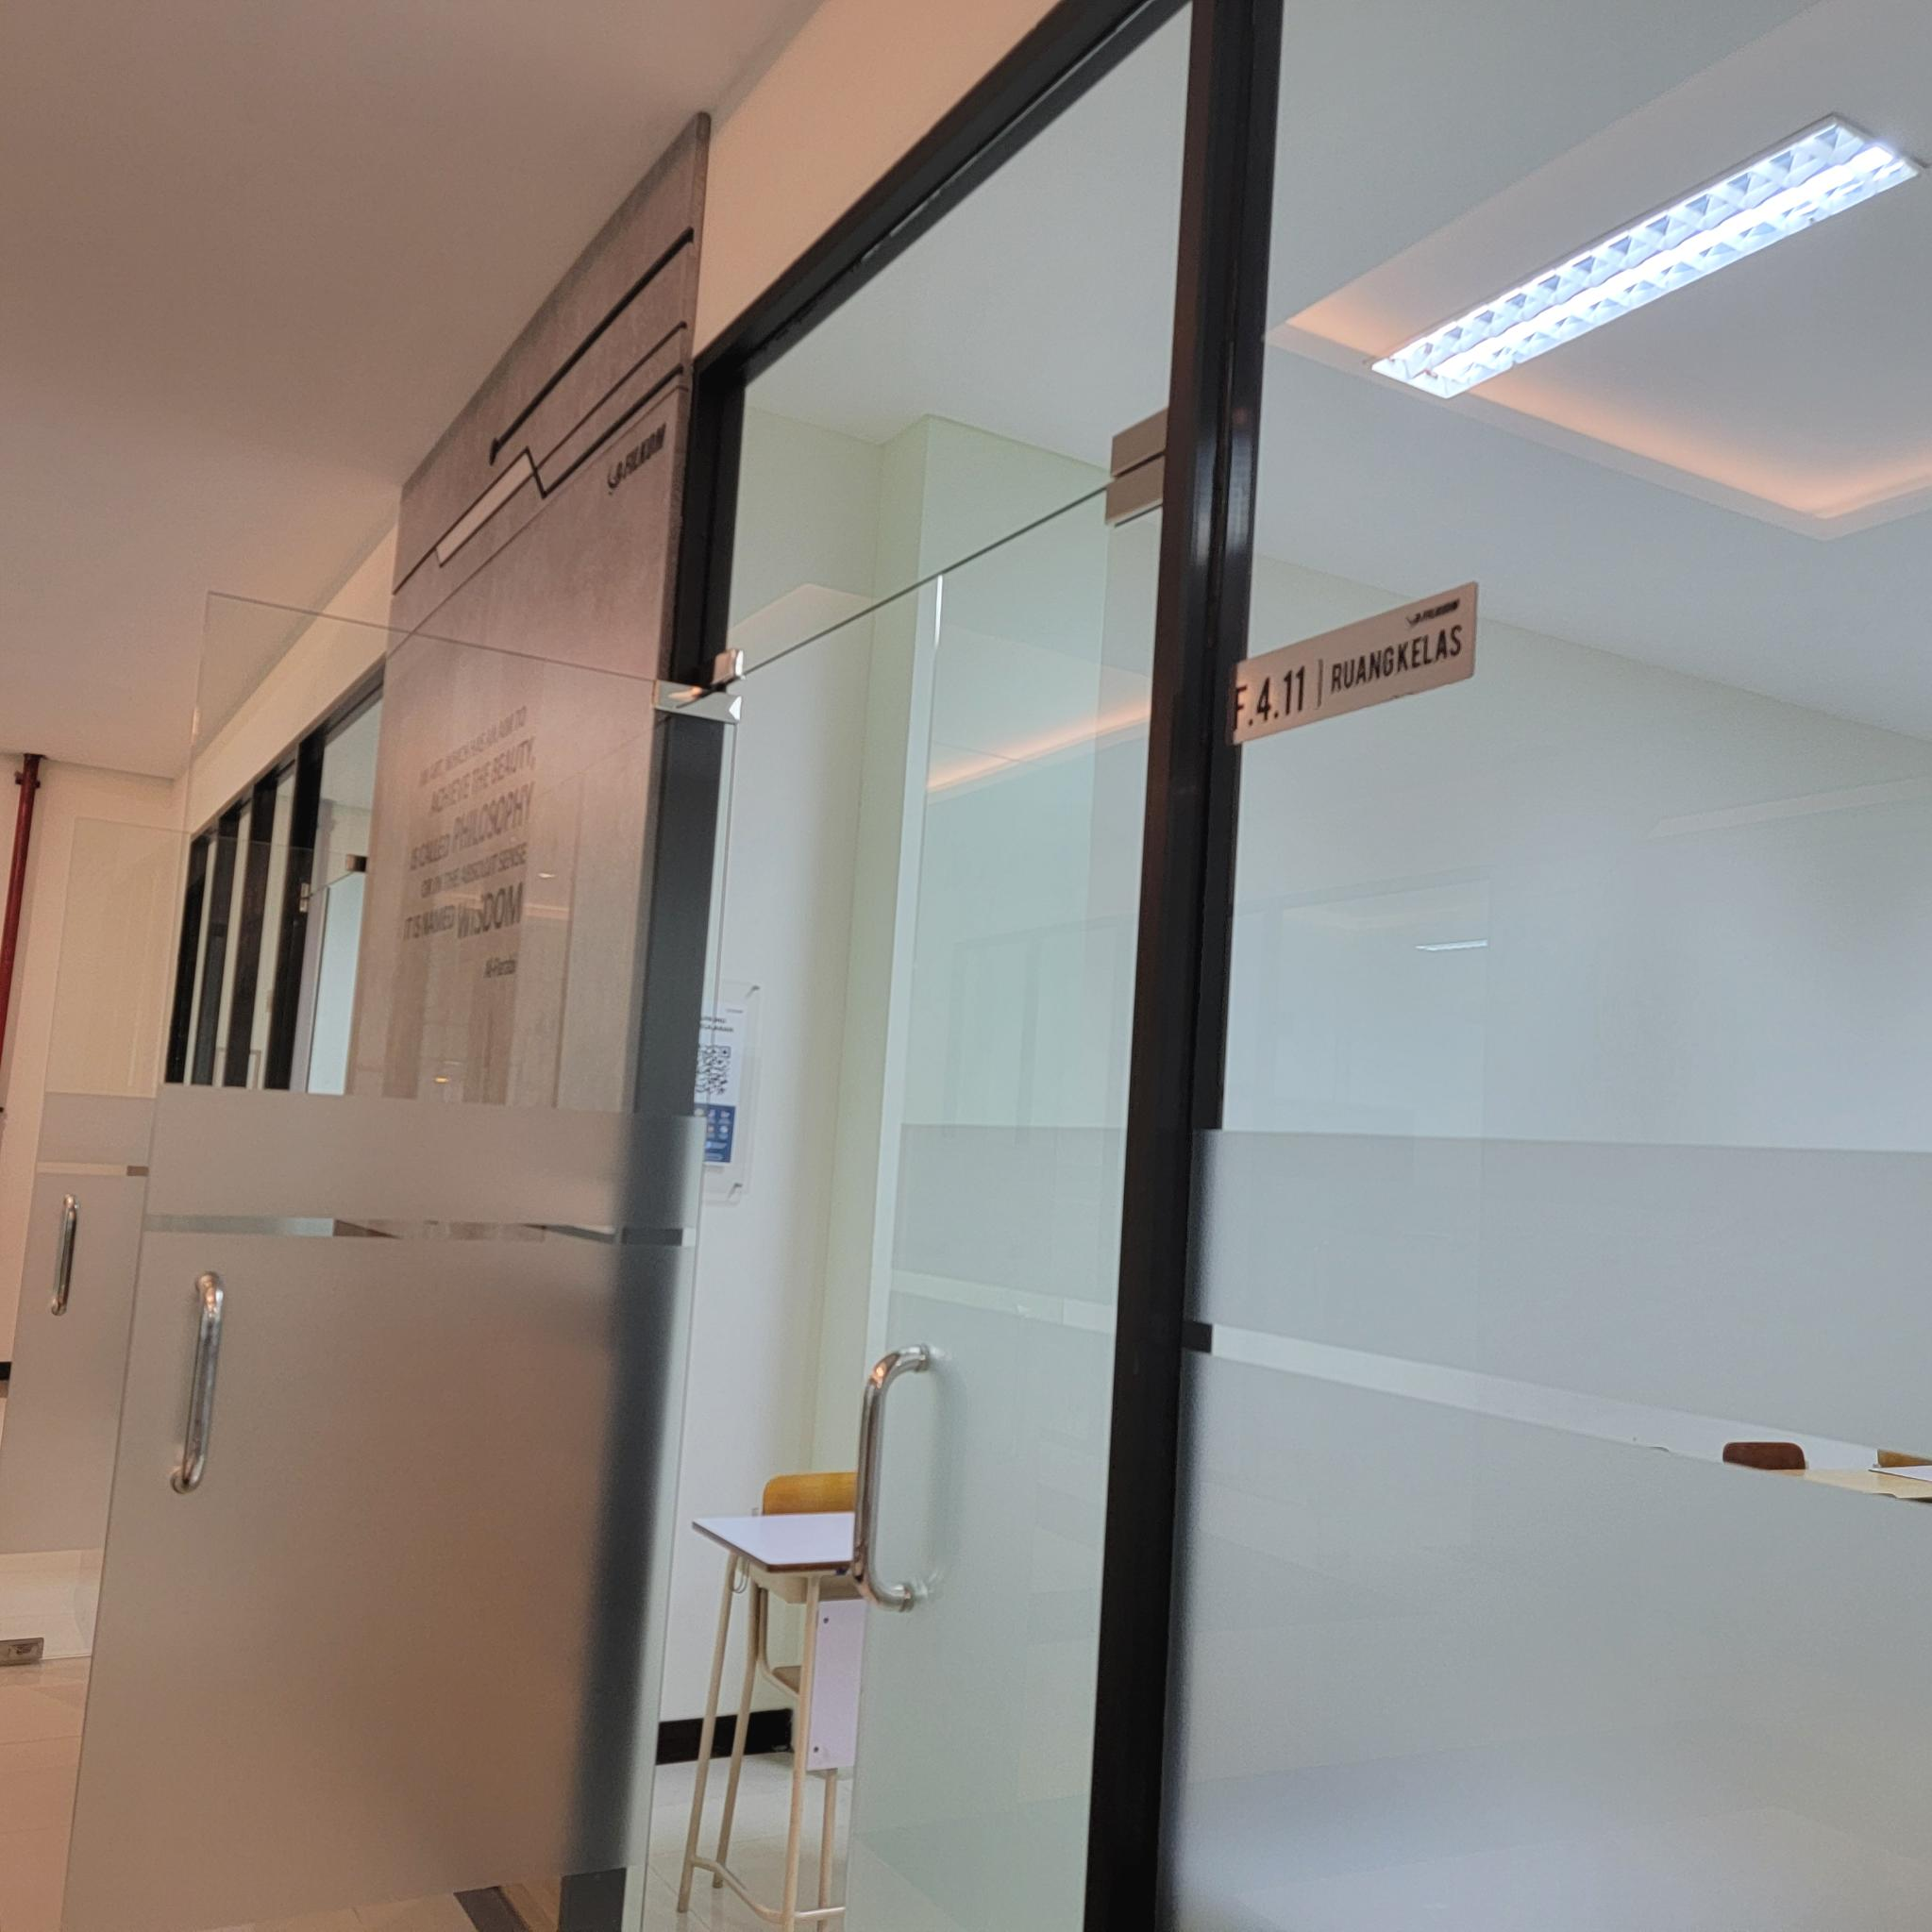plate: (1223, 582, 1477, 752)
